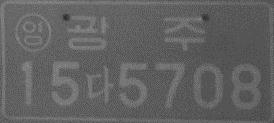0: (192, 61, 224, 112)
1: (14, 58, 44, 106)
5: (50, 60, 80, 108), (119, 61, 149, 108)
7: (154, 60, 186, 109)
8: (230, 62, 262, 111)
광주_D: (66, 13, 206, 53)
다: (85, 66, 113, 106)
영: (14, 12, 52, 53)
